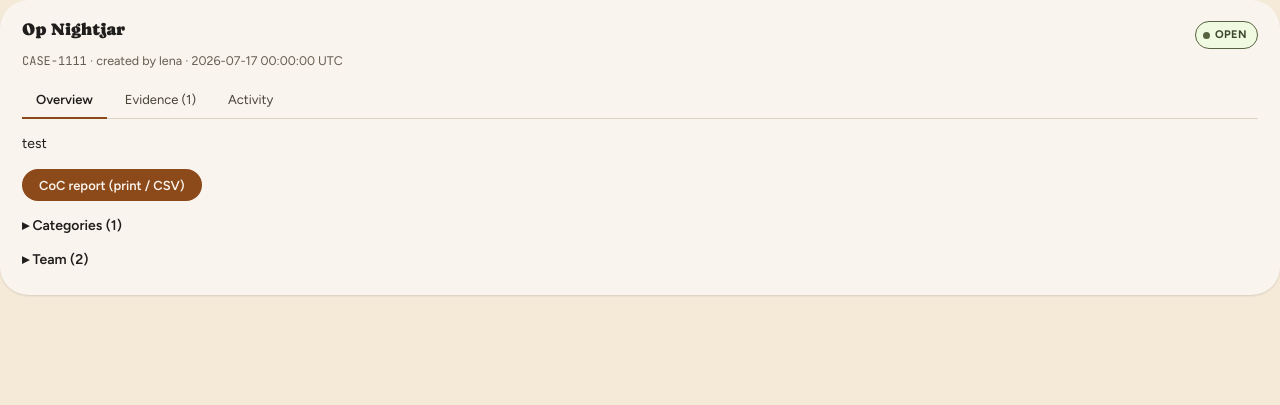
Test: CaseDetailPage (M23 tabs; M25 overview sections) › M25: a contributor sees the Team roster read-only (no management controls)
Check: the heading "Op Nightjar" is shown, box [22,18,125,40]
Click the button "▸ Team (2)" at [55, 260], box [22,251,88,268]
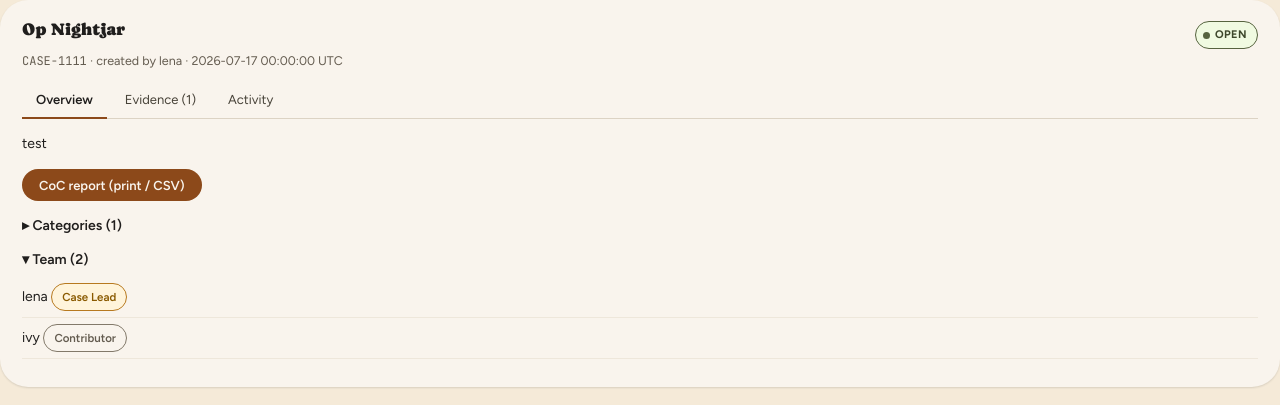
Check: the text "lena" is shown, box [22,288,48,305]
